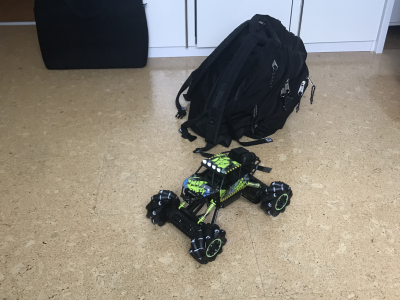remote control car: (141, 143, 295, 265)
